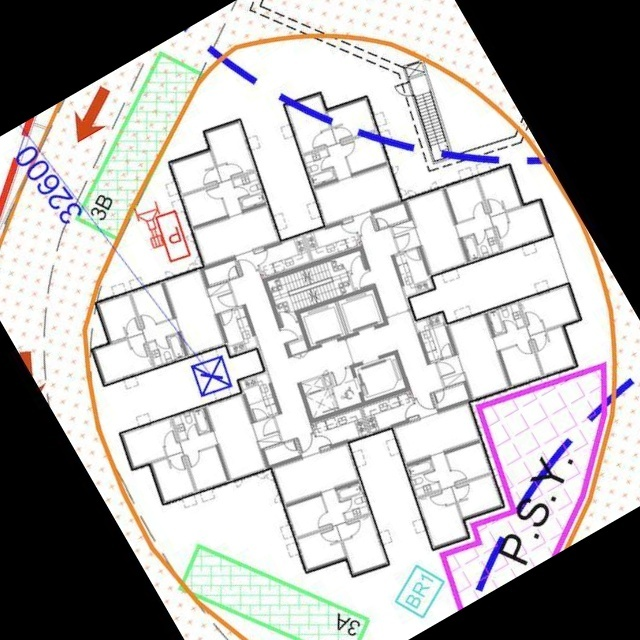tower_crane: (189, 356, 234, 400)
